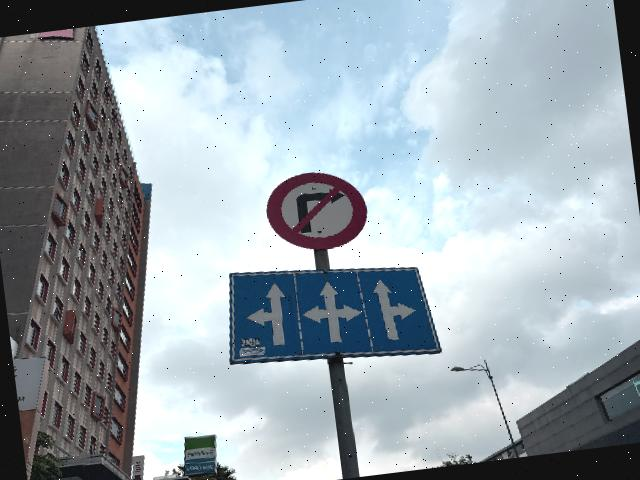cam-re-trai: (260, 164, 373, 258)
